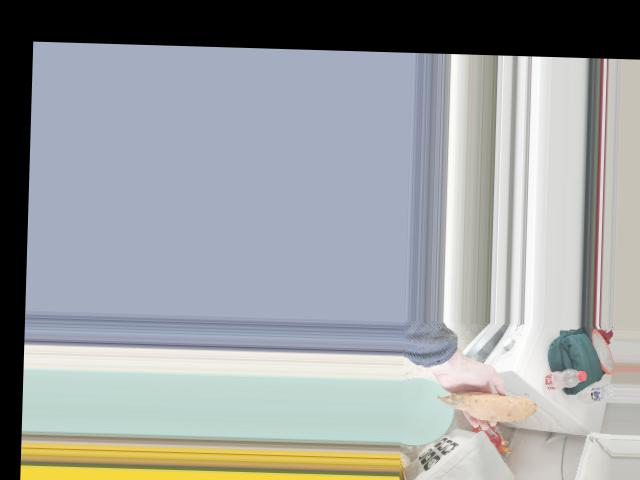sweet_potato: (440, 389, 537, 422)
